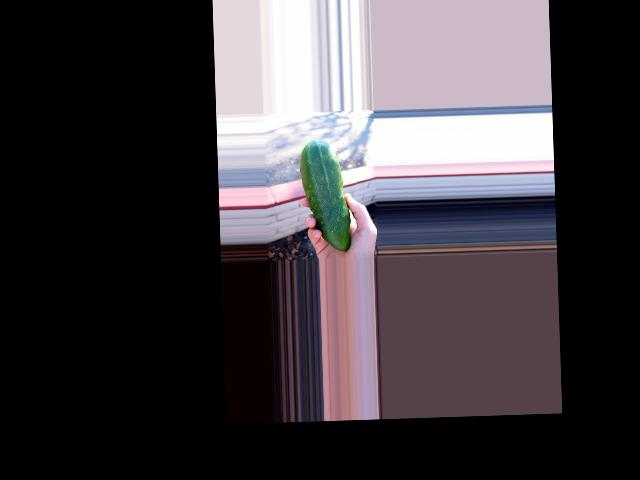cucumber: (298, 139, 350, 252)
